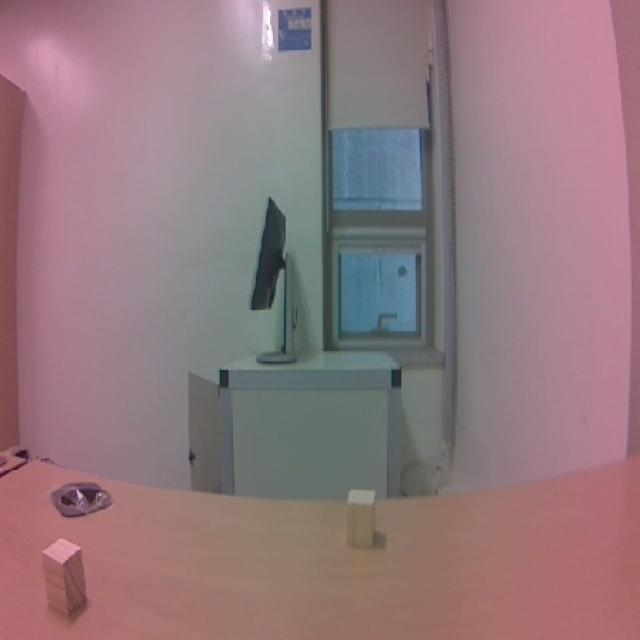obstacle: (40, 526, 93, 624), (337, 484, 389, 555)
